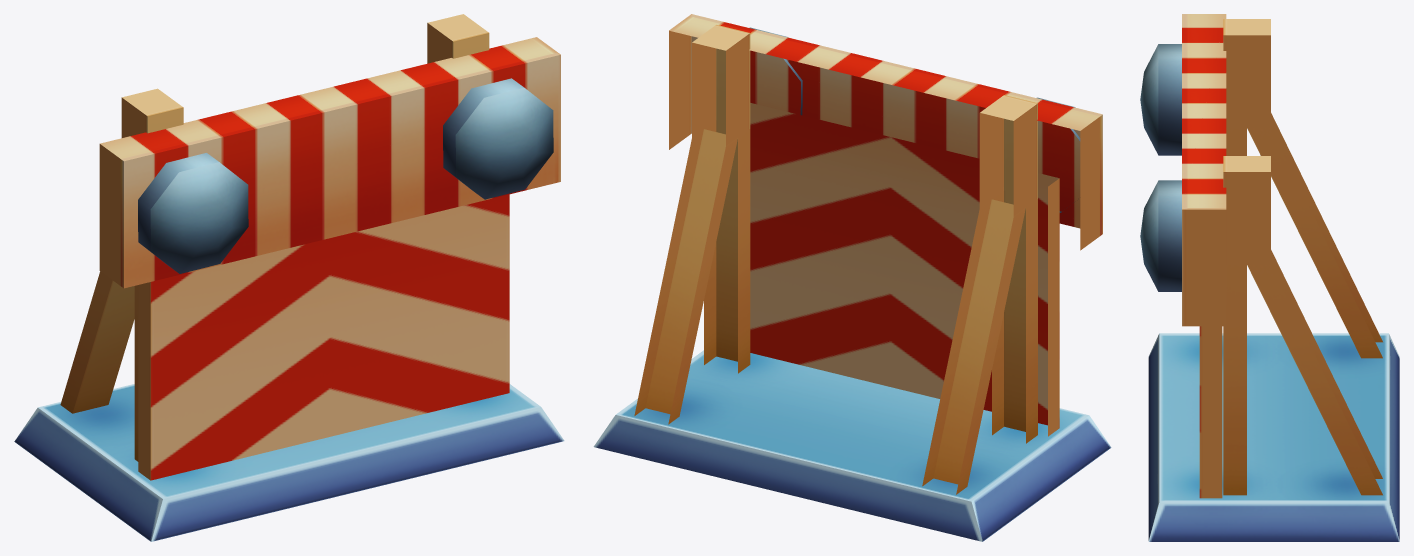
File: Obstacle_03.fbx
3 renders of one model, left to right at view 1: azimuth 30°, elevation 25°; view 2: azimuth 150°, elevation 25°; view 3: azimuth 270°, elevation 25°, orthographic. The views are drawn at different scales.
Visible parts, largest first — view 1: Obstacle_03; view 2: Obstacle_03; view 3: Obstacle_03.
Boxes of the visible parts, box(x1,y1,x2,y2) form: Obstacle_03: box(14, 14, 564, 541); Obstacle_03: box(593, 14, 1111, 541); Obstacle_03: box(1140, 14, 1399, 541).
Bounding box in the file's own units: 346 × 292 × 194.
